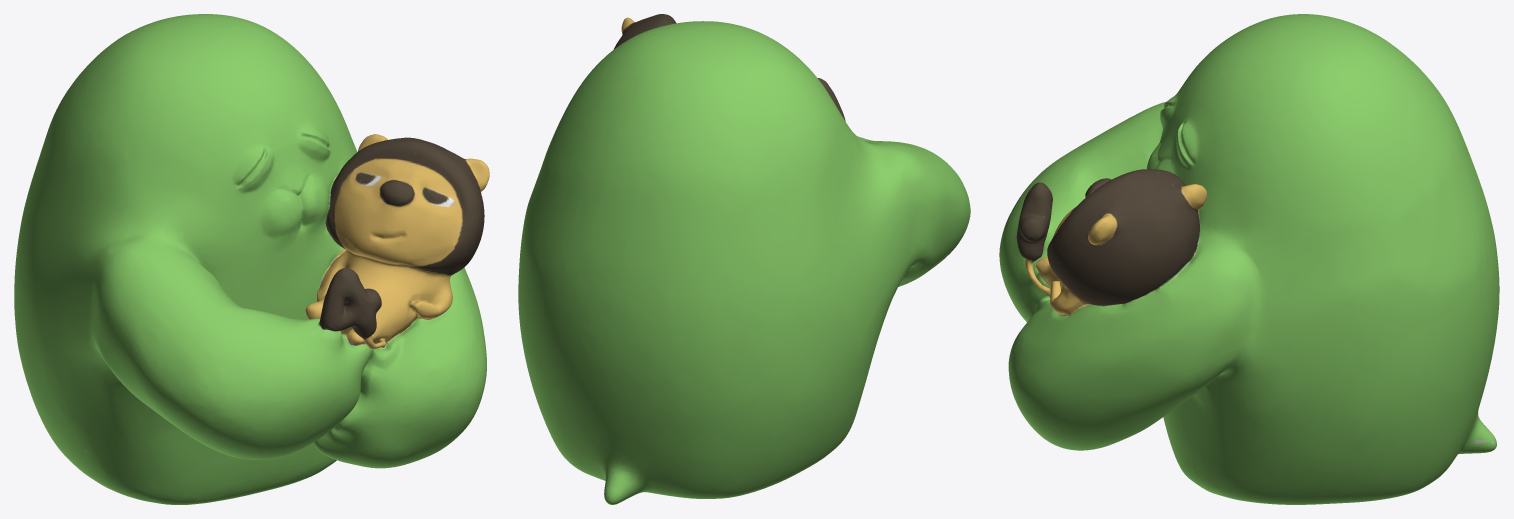
File: raiyon_l2.glb
The picture shows the model from 3 angles, left to right: view 1: azimuth 30°, elevation 25°; view 2: azimuth 150°, elevation 25°; view 3: azimuth 270°, elevation 25°; orthographic projection. The views are drawn at different scales.
Visible parts, largest first — view 1: obj0; view 2: obj0; view 3: obj0.
Part boxes in pixels (box(x1,y1,x2,y2)): obj0: box(14, 14, 489, 504); obj0: box(518, 14, 970, 504); obj0: box(999, 14, 1499, 504).
Size of the model in its own units: 0.2236 by 0.254 by 0.2707.
1 material, 1 textured.
